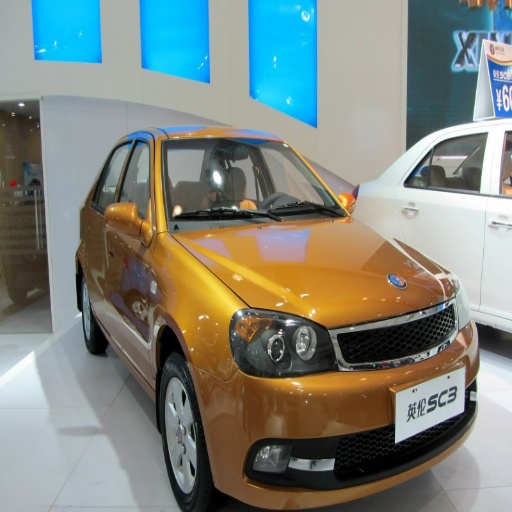front_bumper: (196, 303, 477, 511)
front_right_door: (110, 137, 155, 366)
front_right_light: (231, 307, 332, 376)
